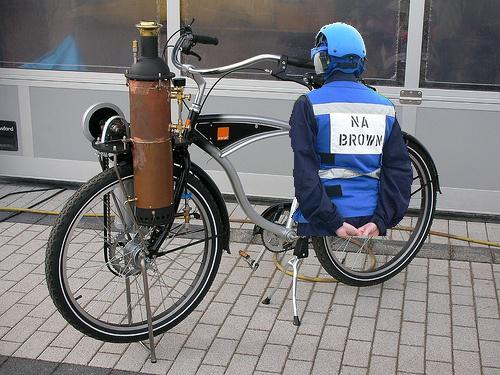tampered: (290, 23, 413, 236)
